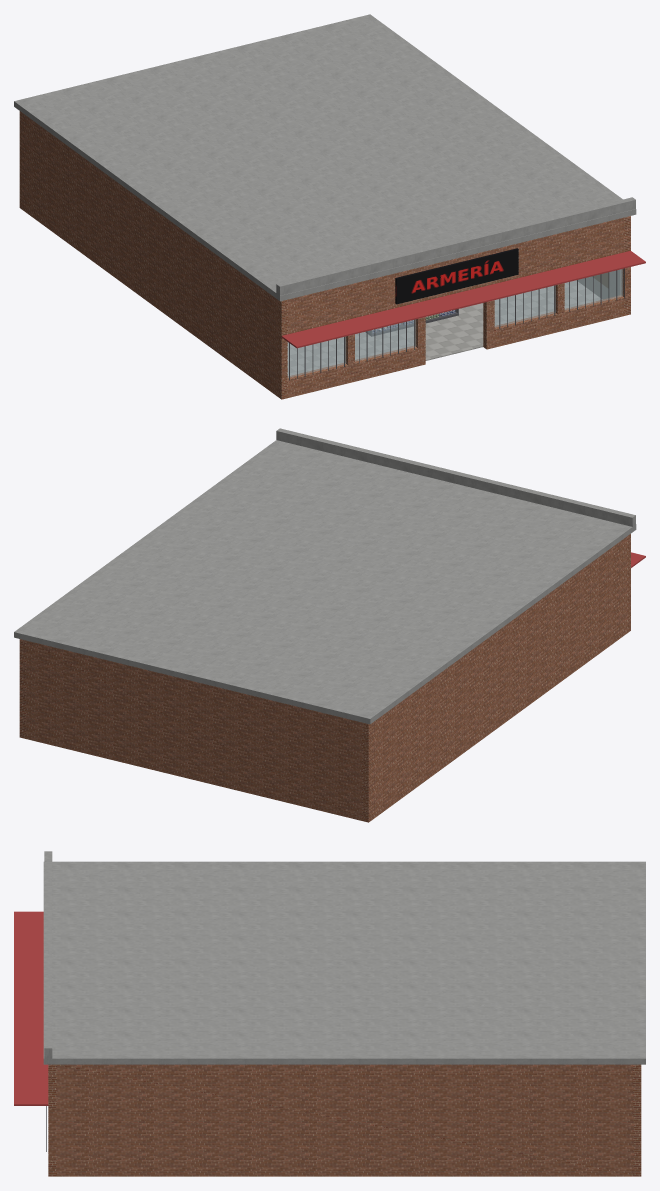
File: gunshop.glb
3 views of the same model, one above another, from view 1: azimuth 30°, elevation 25°; view 2: azimuth 150°, elevation 25°; view 3: azimuth 270°, elevation 25° (orthographic). The views are drawn at different scales.
Visible parts, largest first — view 1: shell-col, decor, glass-col; view 2: shell-col, decor; view 3: shell-col, decor.
Part boxes in pixels (x1,y1,x2,y2): shell-col: (14,14,636,399); decor: (276,197,645,380); glass-col: (287,269,622,377); shell-col: (14,440,636,822); decor: (276,428,645,567); shell-col: (43,861,645,1176); decor: (14,851,52,1151).
Bounding box in the file's own units: 20.4 × 6.3 × 27.7.
Materials: 21 (16 with a texture image).
